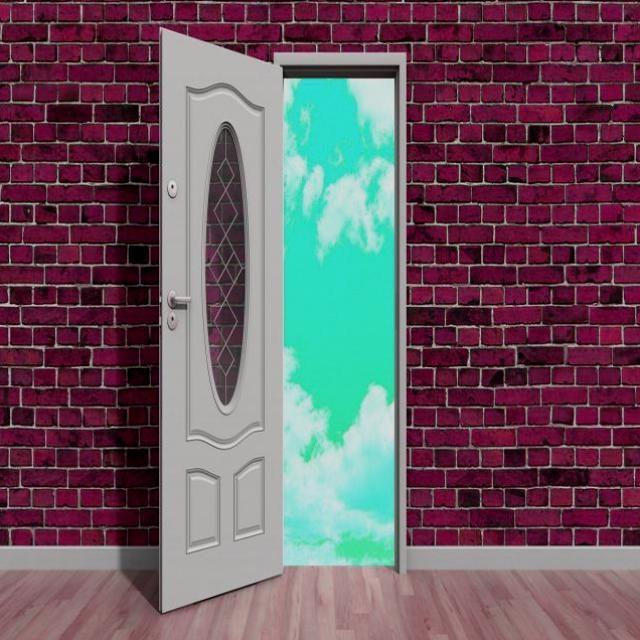door: (157, 25, 285, 613)
